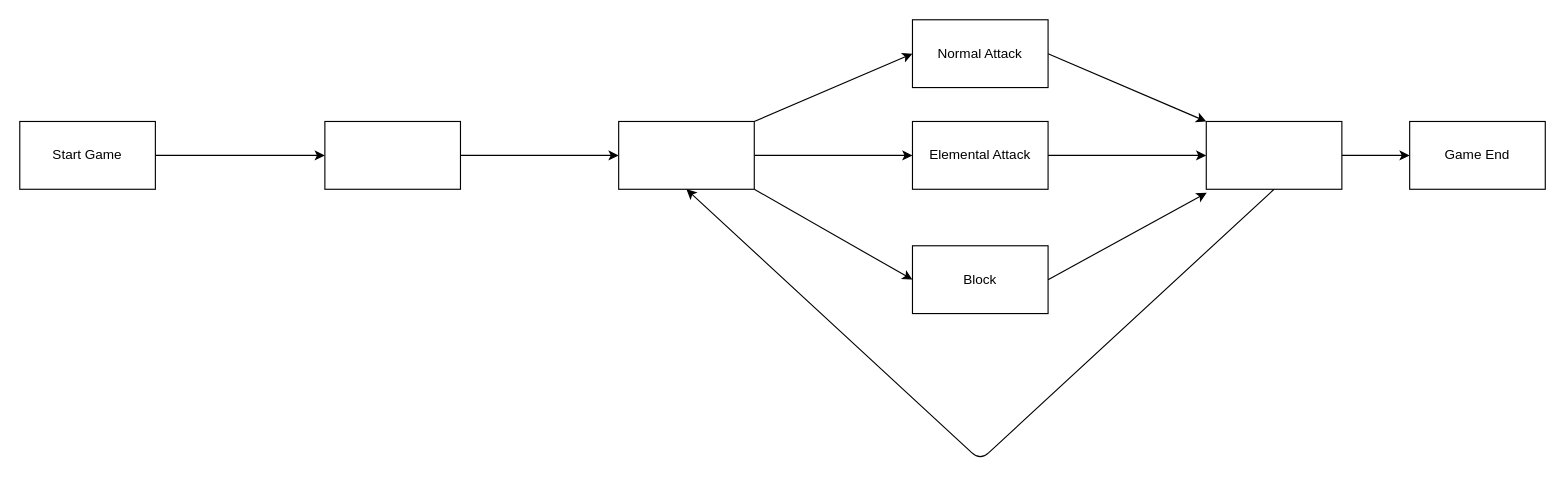
The diagram is 1565 pixels wide and 489 high, and some of its shapes have lost their labels. The shapes that lost their labels are listed below. From the top down, each one's centre as x and y in pixels, then its label:
the point at 392,154: Character Selection
the point at 686,154: Playing the Game
the point at 1273,154: Damage Calculation
